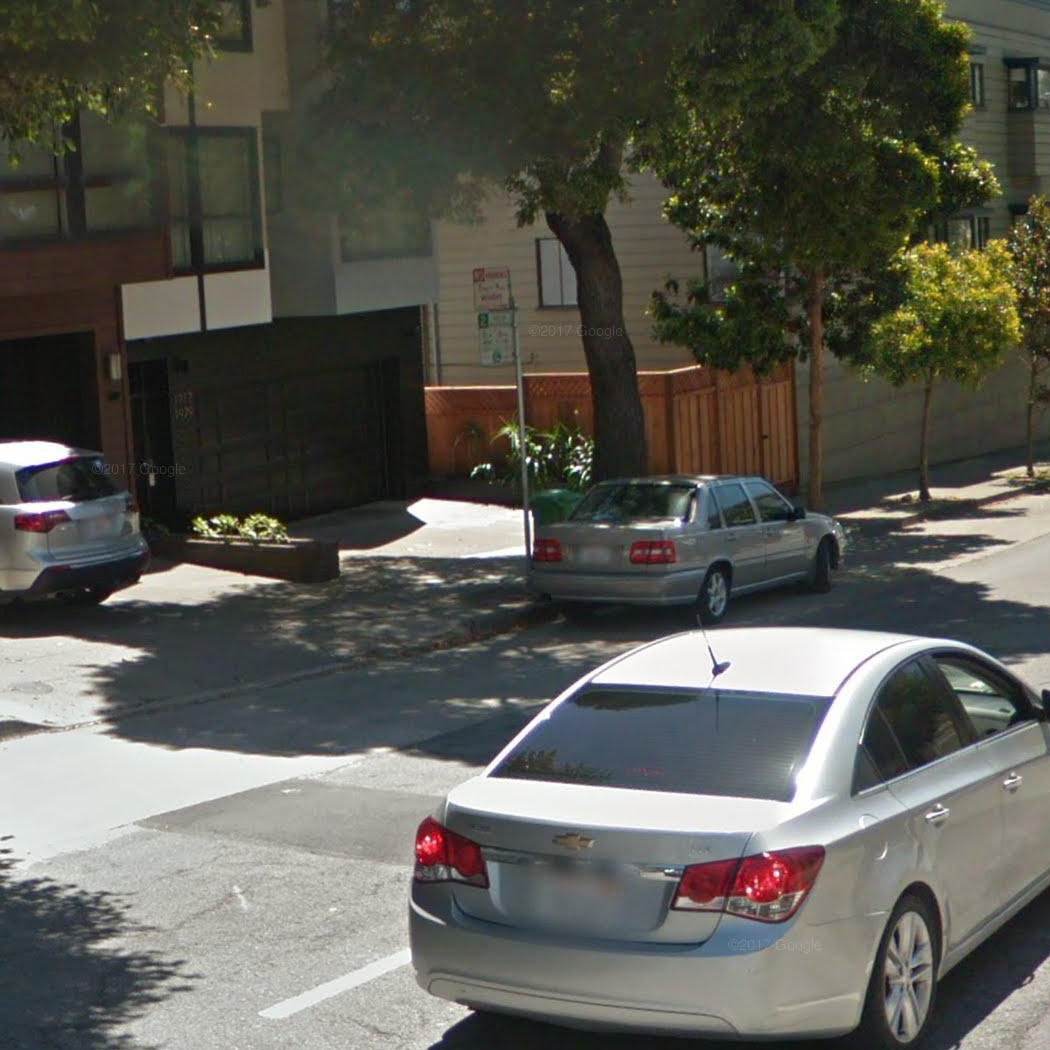2 Hour Parking: (476, 310, 514, 366)
No Parking: (473, 266, 512, 310)
